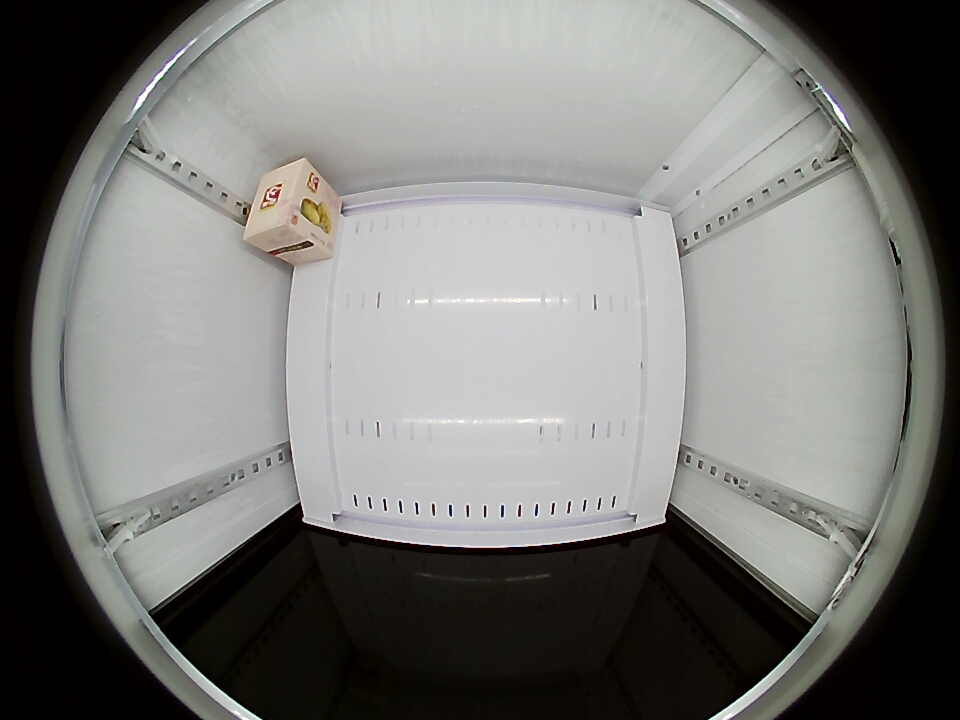rousongbing: (243, 157, 326, 254)
